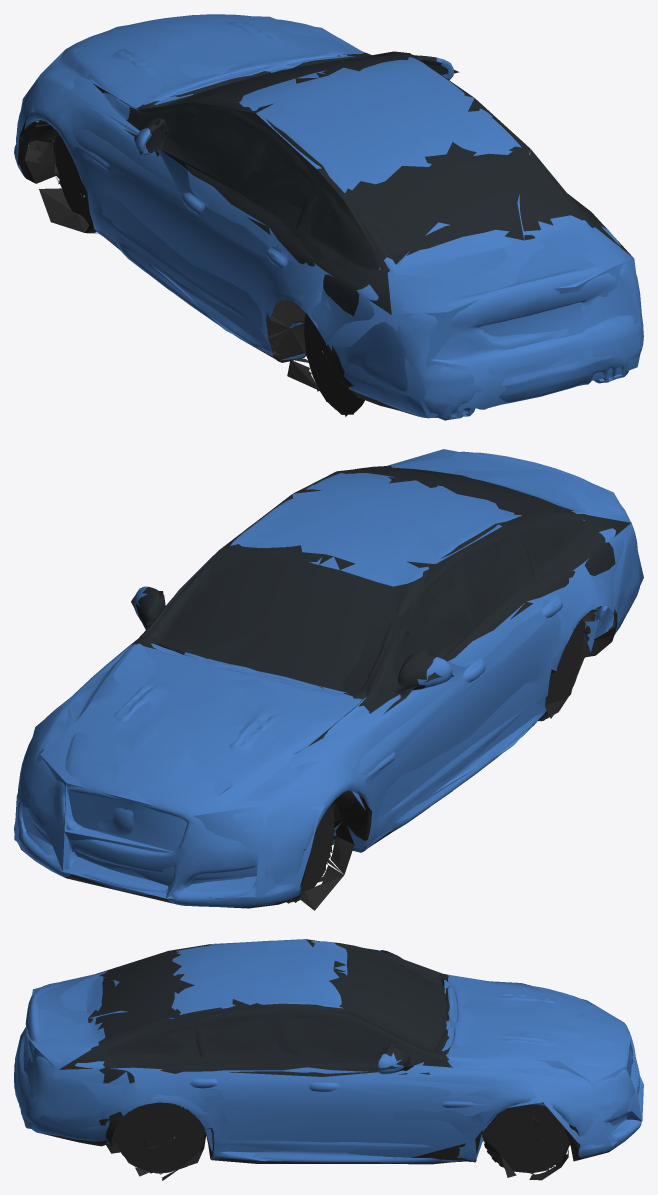
Rendered from jaguar-xjr.glb.
The picture shows the model from 3 angles, top to bottom: view 1: azimuth 30°, elevation 25°; view 2: azimuth 150°, elevation 25°; view 3: azimuth 270°, elevation 25°; orthographic projection. The views are drawn at different scales.
Parts seen in each view (by area): view 1: body, far; view 2: body, far; view 3: body, far.
Boxes of the visible parts, bbox=[...] form: body: bbox=[14, 14, 643, 420]; far: bbox=[16, 16, 643, 418]; body: bbox=[14, 451, 640, 910]; far: bbox=[14, 449, 643, 902]; body: bbox=[14, 940, 642, 1180]; far: bbox=[15, 939, 643, 1177].
Size of the model in its own units: 2.25 by 1.54 by 5.22.
